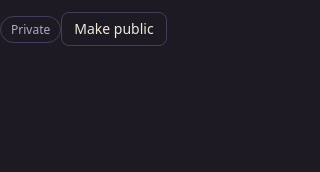
Test case: VisibilityToggle › makes the beat public through the API, then shows Public
The width and height of the screenshot is (320, 172).
Click the button "Make public" at (114, 29), box [61,12,167,46]
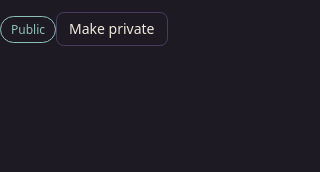
Expected: the button "Make private" is enabled, [56,12,168,46]
Expected: the text "Public" is shown, [0,16,56,43]
